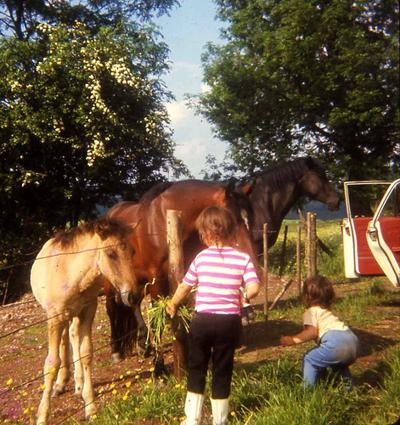person: (164, 201, 261, 425)
